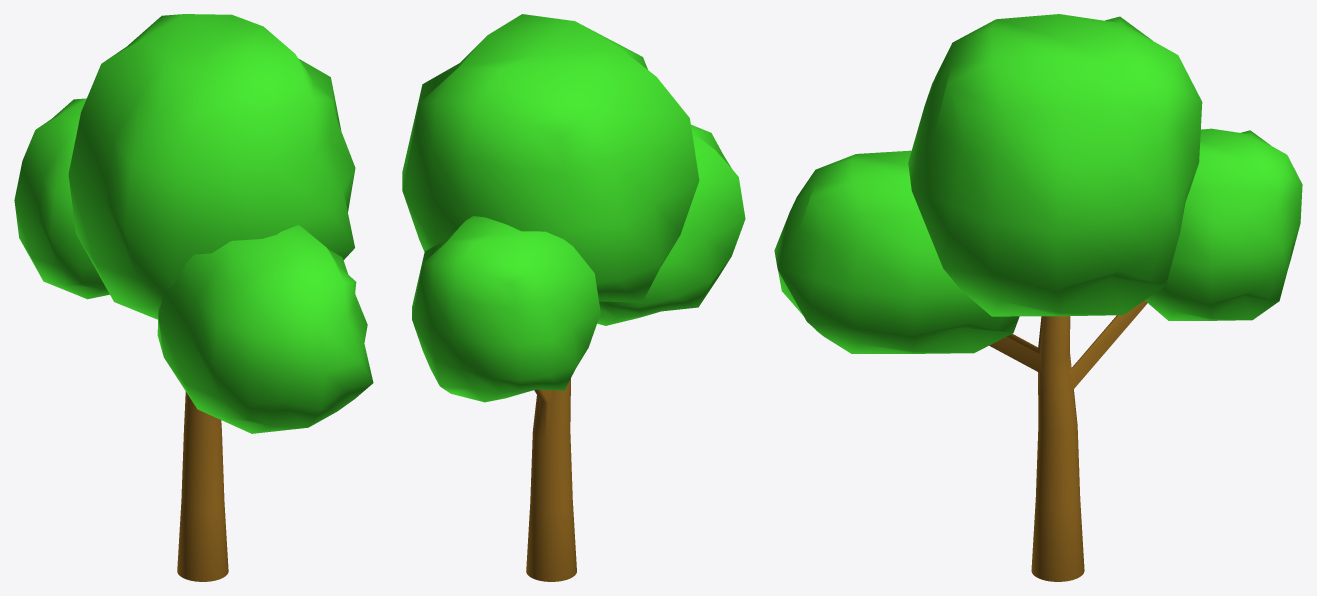
File: tree1.fbx
3 views of the same model, side by side, from view 1: azimuth 30°, elevation 25°; view 2: azimuth 150°, elevation 25°; view 3: azimuth 270°, elevation 25° (orthographic). The views are drawn at different scales.
Parts seen in each view (by area): view 1: Cube, Cube.002, Cube.001, Cylinder; view 2: Cube, Cube.001, Cube.002, Cylinder; view 3: Cube, Cube.002, Cube.001, Cylinder.
Boxes of the visible parts, left/top/right/bottom form: Cube: left=68, top=14, right=355, bottom=319; Cube.002: left=157, top=225, right=373, bottom=433; Cube.001: left=14, top=98, right=109, bottom=299; Cylinder: left=177, top=391, right=228, bottom=581; Cube: left=402, top=14, right=699, bottom=302; Cube.001: left=412, top=216, right=600, bottom=402; Cube.002: left=597, top=124, right=745, bottom=325; Cylinder: left=526, top=378, right=576, bottom=581; Cube: left=908, top=14, right=1202, bottom=316; Cube.002: left=774, top=150, right=1019, bottom=353; Cube.001: left=1145, top=128, right=1302, bottom=320; Cylinder: left=989, top=300, right=1147, bottom=581.
Size of the model in its own units: 251 by 500 by 438.
